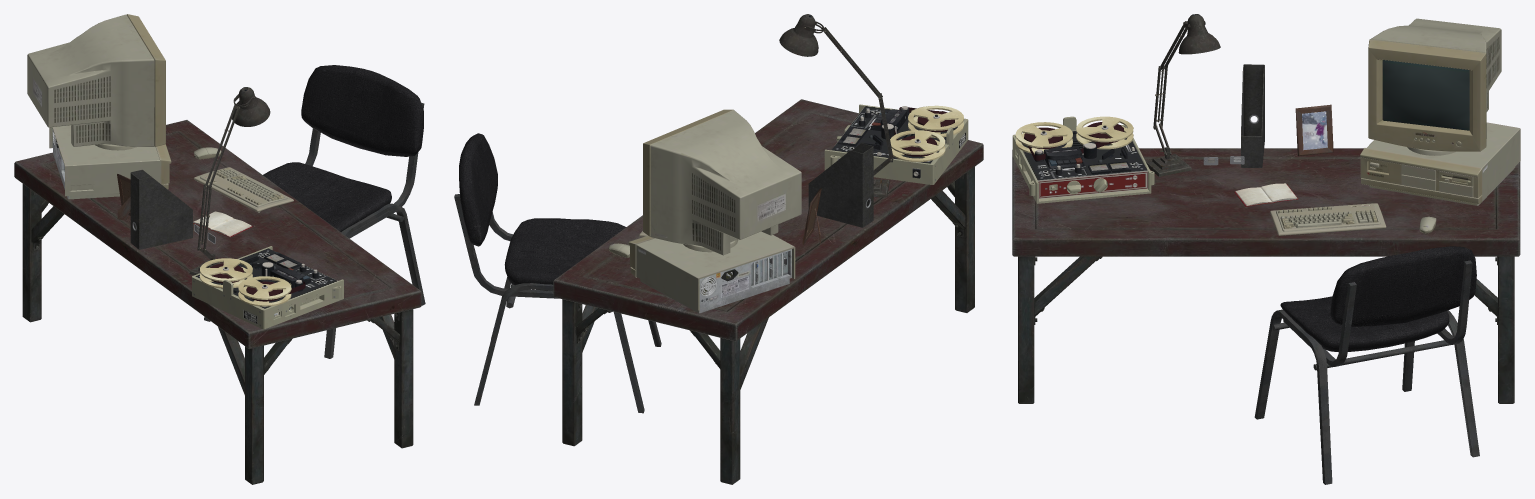
File: office_-_assets.glb
3 renders of one model, left to right at view 1: azimuth 30°, elevation 25°; view 2: azimuth 150°, elevation 25°; view 3: azimuth 270°, elevation 25°, orthographic. The views are drawn at different scales.
Parts seen in each view (by area): view 1: Object_68, Object_107, Object_16, Object_70, Object_14, Object_18, Object_71, Object_10, Object_119, Object_105, Object_113, Object_115 (+1 smaller); view 2: Object_68, Object_16, Object_107, Object_14, Object_70, Object_18, Object_71, Object_119; view 3: Object_68, Object_107, Object_16, Object_14, Object_70, Object_71, Object_10, Object_18, Object_28, Object_119, Object_105, Object_109.
Part boxes in pixels (x1,y1,x2,y2): Object_68: [14, 120, 421, 484]; Object_107: [204, 65, 425, 358]; Object_16: [27, 14, 165, 150]; Object_70: [192, 246, 343, 329]; Object_14: [49, 125, 171, 199]; Object_18: [130, 169, 192, 249]; Object_71: [200, 254, 305, 306]; Object_10: [193, 167, 293, 212]; Object_119: [232, 87, 270, 126]; Object_105: [193, 211, 252, 237]; Object_113: [197, 184, 211, 252]; Object_115: [204, 105, 240, 189]; Object_68: [553, 99, 983, 484]; Object_16: [643, 109, 801, 255]; Object_107: [454, 133, 661, 413]; Object_14: [628, 231, 795, 313]; Object_70: [824, 104, 968, 184]; Object_18: [808, 143, 873, 227]; Object_71: [843, 105, 963, 162]; Object_119: [779, 14, 818, 56]; Object_68: [1012, 148, 1520, 403]; Object_107: [1254, 246, 1479, 484]; Object_16: [1368, 18, 1501, 155]; Object_14: [1360, 122, 1520, 205]; Object_70: [1012, 116, 1154, 203]; Object_71: [1015, 116, 1133, 170]; Object_10: [1270, 203, 1386, 235]; Object_18: [1241, 64, 1264, 167]; Object_28: [1295, 104, 1333, 156]; Object_119: [1178, 14, 1220, 54]; Object_105: [1234, 183, 1298, 206]; Object_109: [1145, 147, 1191, 176].
Bounding box in the file's own units: 1.72 × 1.51 × 2.02.
9 materials, 9 textured.
